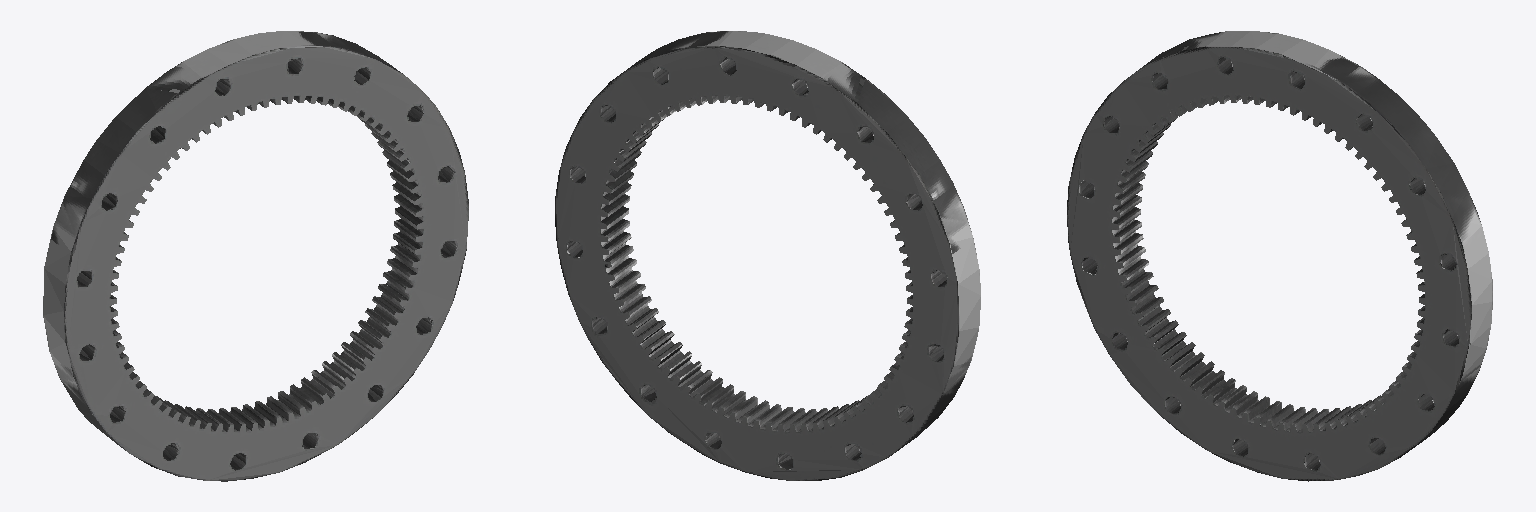
3 renders of one model, left to right at view 1: azimuth 30°, elevation 25°; view 2: azimuth 150°, elevation 25°; view 3: azimuth 330°, elevation 25°, orthographic.
Visible parts, largest first — view 1: Piñon.028_Mesh.1328; view 2: Piñon.028_Mesh.1328; view 3: Piñon.028_Mesh.1328.
Boxes of the visible parts, x1,y1,x2,y2 form: Piñon.028_Mesh.1328: [43, 31, 468, 481]; Piñon.028_Mesh.1328: [555, 31, 980, 480]; Piñon.028_Mesh.1328: [1067, 31, 1492, 481].
Bounding box in the file's own units: 0.2075 × 0.2075 × 0.0197.
1 materials, 1 textured.